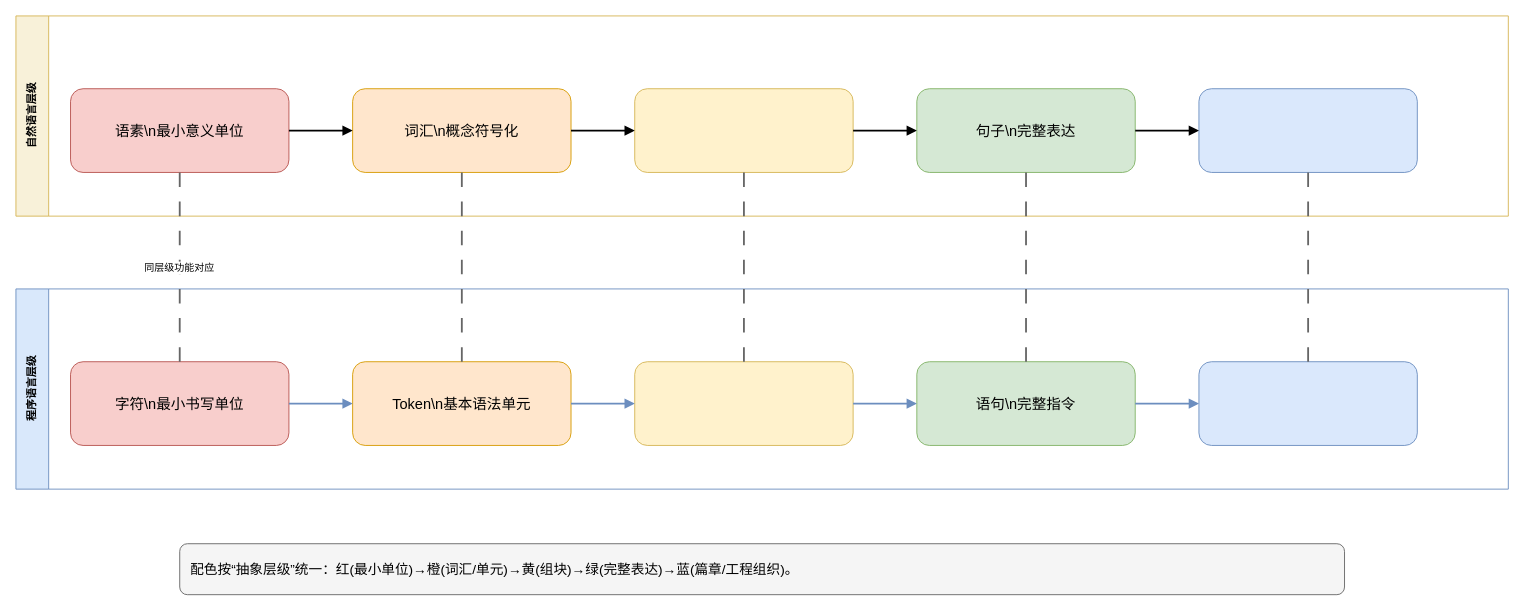
Image size: 1524x611. Some labels were removed from this diagram. The centre of each missing label's shape, as x and y in pixels:
"模块\n工程组织" goes at (1307,403).
"短语\n意义组块" goes at (743,130).
"篇章\n篇级组织" goes at (1307,130).
"表达式\n计算组块" goes at (743,403).
